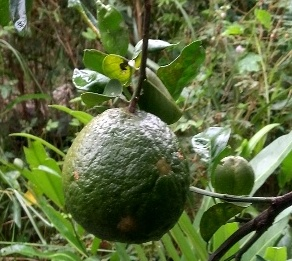Cam: (58, 103, 196, 245)
